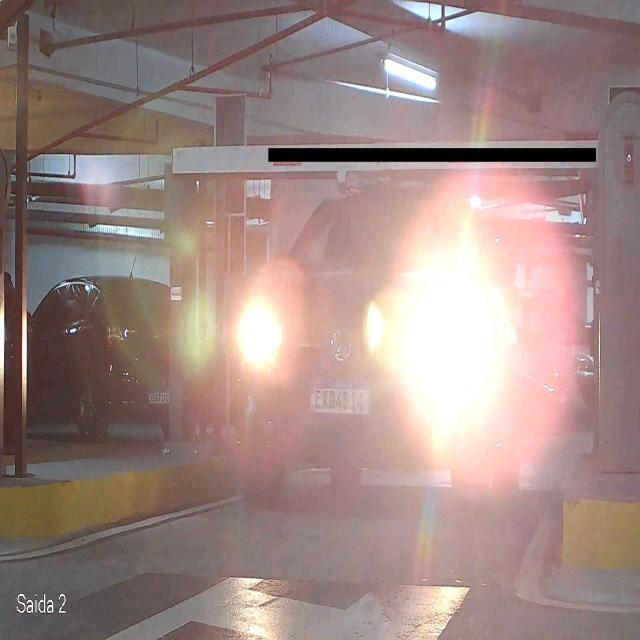mercosul_plate: (309, 380, 371, 417)
